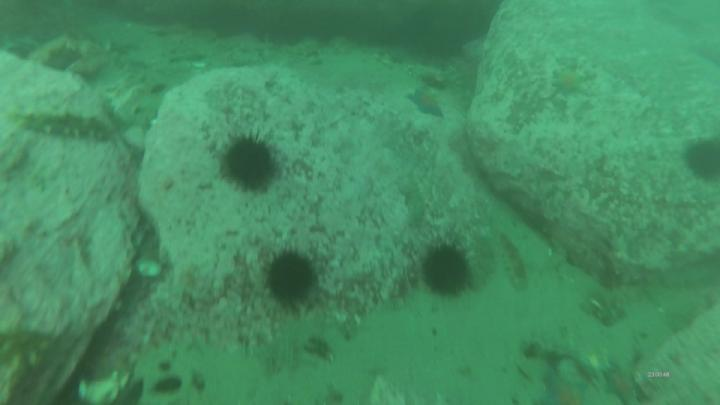echinus: (224, 137, 275, 187), (423, 249, 470, 296), (270, 254, 315, 302), (687, 142, 720, 181)
holothurian: (21, 112, 112, 142), (497, 232, 532, 289), (401, 166, 428, 226)
starfish: (542, 373, 587, 405), (603, 366, 637, 405), (408, 91, 443, 119), (551, 67, 584, 93)
